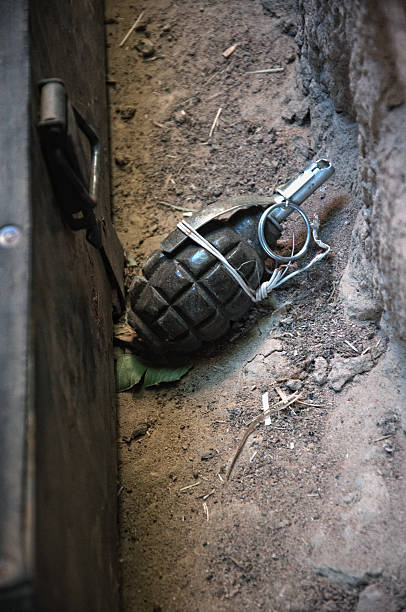e1: (124, 173, 334, 360)
